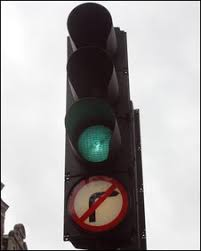green: (63, 2, 134, 175), (70, 12, 123, 169), (74, 22, 114, 165)
